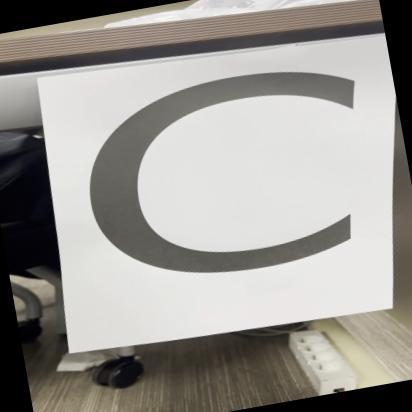seat: (41, 24, 406, 368)
